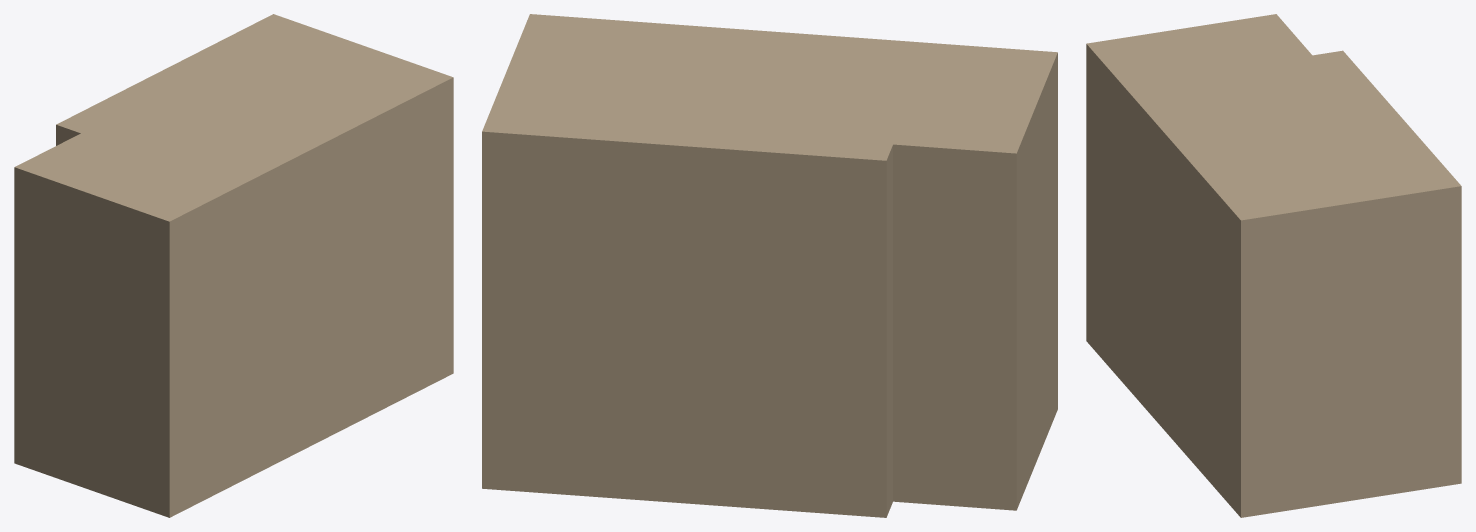
The model's file is bld_107715940.dae.
3 views of the same model, side by side, from view 1: azimuth 30°, elevation 25°; view 2: azimuth 150°, elevation 25°; view 3: azimuth 270°, elevation 25° (orthographic). The views are drawn at different scales.
Parts seen in each view (by area): view 1: bld_107715940; view 2: bld_107715940; view 3: bld_107715940.
Boxes of the visible parts, x1=… form: bld_107715940: x1=14, y1=14, x2=453, y2=517; bld_107715940: x1=482, y1=14, x2=1057, y2=517; bld_107715940: x1=1086, y1=14, x2=1461, y2=517.
Bounding box in the file's own units: 11.91 × 9.15 × 8.
